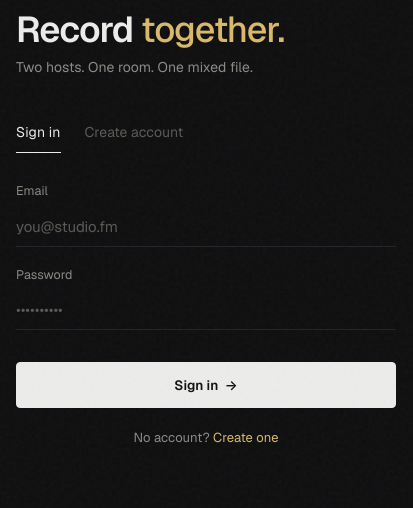
Scenario: LoginView register flow › clicking Create account tab switches to register form
Click the text "Create account": click(134, 132) [84,124,183,142]
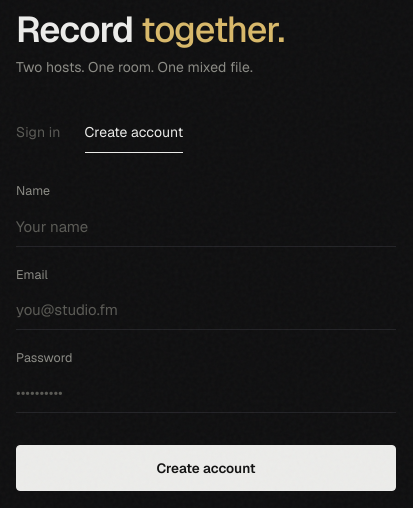
Check: the button "Create account" is shown, box [16,445,396,491]
